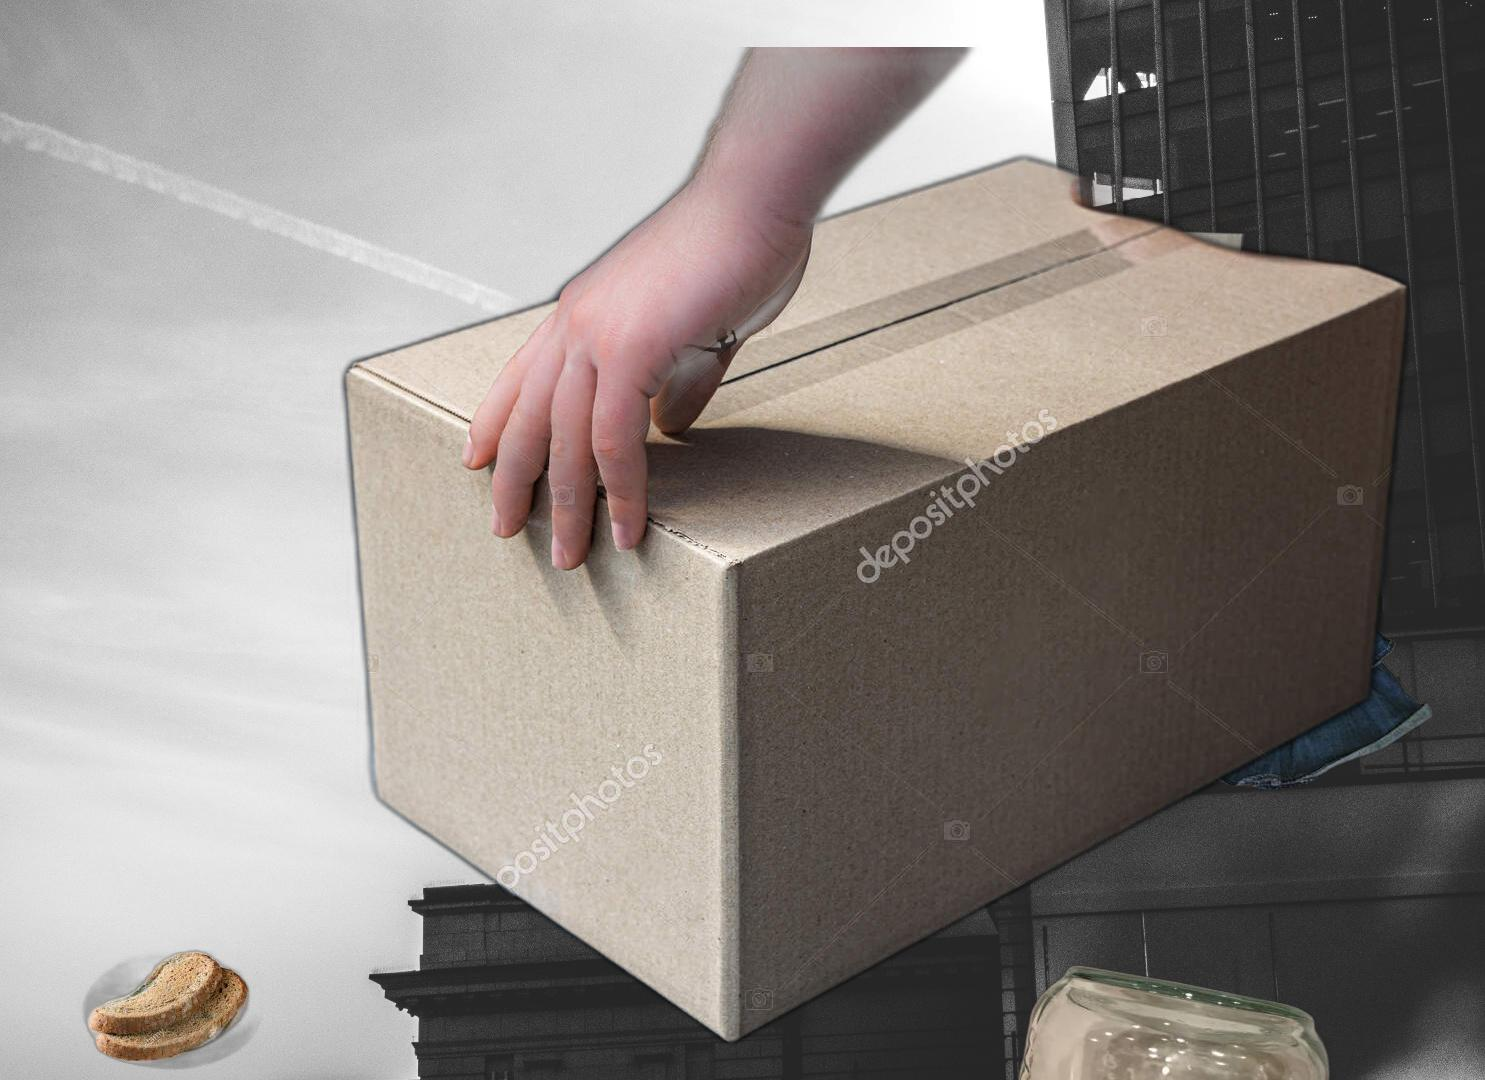biological: (74, 926, 265, 1071)
clothes: (1079, 586, 1437, 795)
glass: (993, 962, 1340, 1080)
paper: (819, 222, 1250, 574)
trashbox-cardboard: (331, 47, 1442, 1053)
